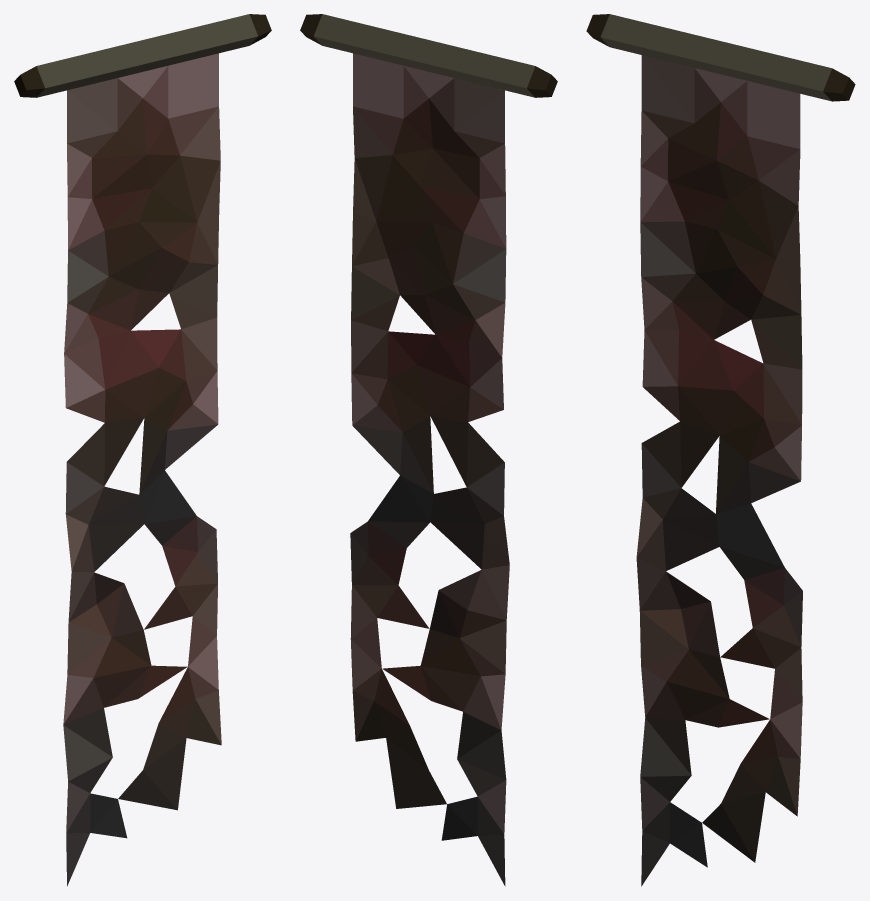
File: Prop_TapestryThinCWorn.fbx
The picture shows the model from 3 angles, left to right: view 1: azimuth 30°, elevation 25°; view 2: azimuth 150°, elevation 25°; view 3: azimuth 330°, elevation 25°; orthographic projection. The views are drawn at different scales.
Visible parts, largest first — view 1: Prop_TapestryThinCWorn; view 2: Prop_TapestryThinCWorn; view 3: Prop_TapestryThinCWorn.
Part boxes in pixels (bbox=[...]): Prop_TapestryThinCWorn: bbox=[14, 14, 271, 886]; Prop_TapestryThinCWorn: bbox=[300, 14, 557, 886]; Prop_TapestryThinCWorn: bbox=[586, 14, 855, 886].
Bounding box in the file's own units: 80.63 × 260 × 10.
